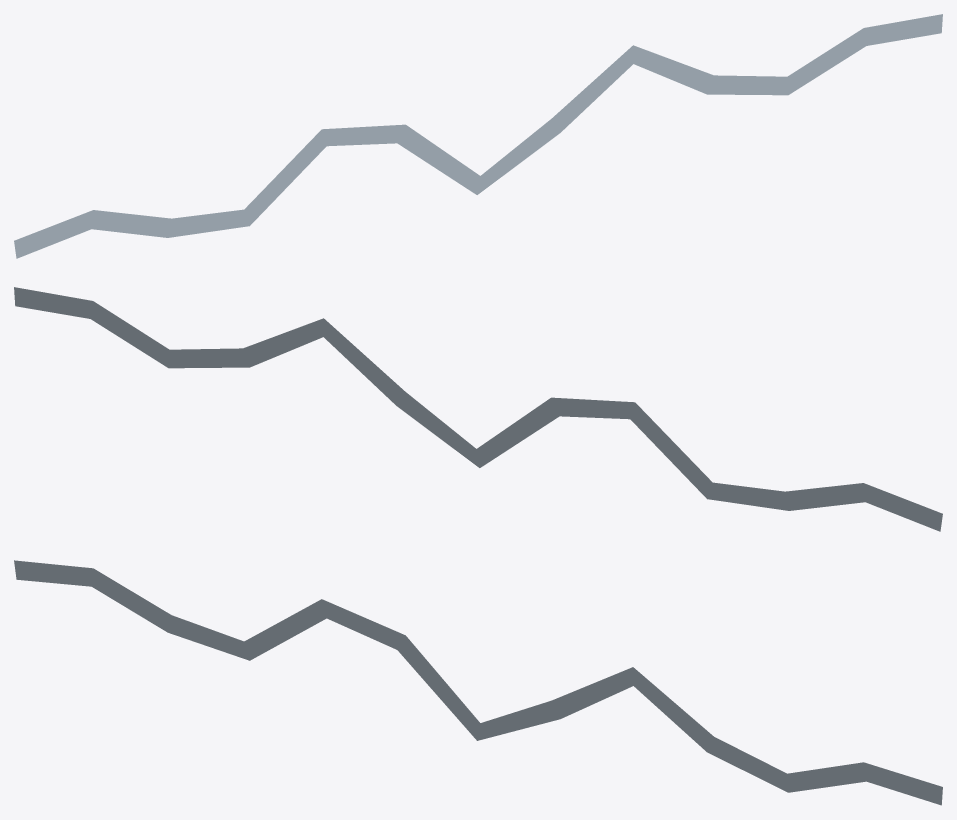
File: 2065_LightningCage_Overall_CageArc_1_1.fbx
3 renders of one model, top to bottom at view 1: azimuth 30°, elevation 25°; view 2: azimuth 150°, elevation 25°; view 3: azimuth 330°, elevation 25°, orthographic.
Parts seen in each view (by area): view 1: PART_CageArc_1_1; view 2: PART_CageArc_1_1; view 3: PART_CageArc_1_1.
Part boxes in pixels (x1=…): PART_CageArc_1_1: x1=14, y1=14, x2=942, y2=258; PART_CageArc_1_1: x1=14, y1=287, x2=942, y2=531; PART_CageArc_1_1: x1=14, y1=560, x2=942, y2=805.
Bounding box in the file's own units: 123 × 14.21 × 2.31e-06.
